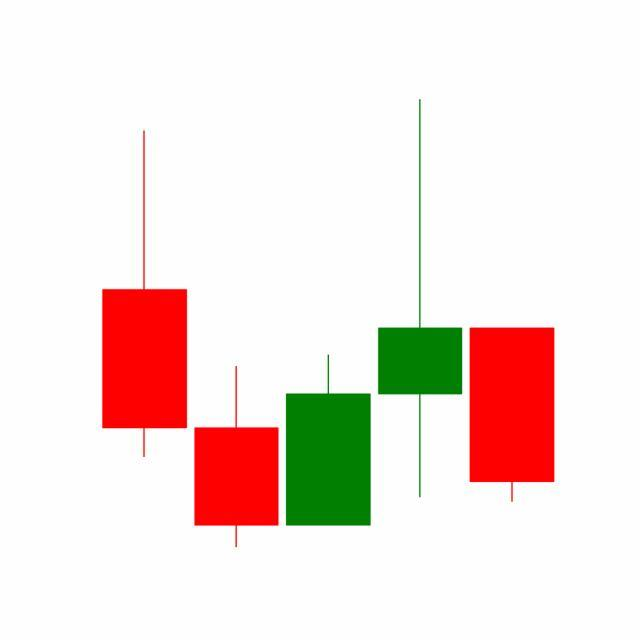Marubozu: (466, 326, 559, 505)
